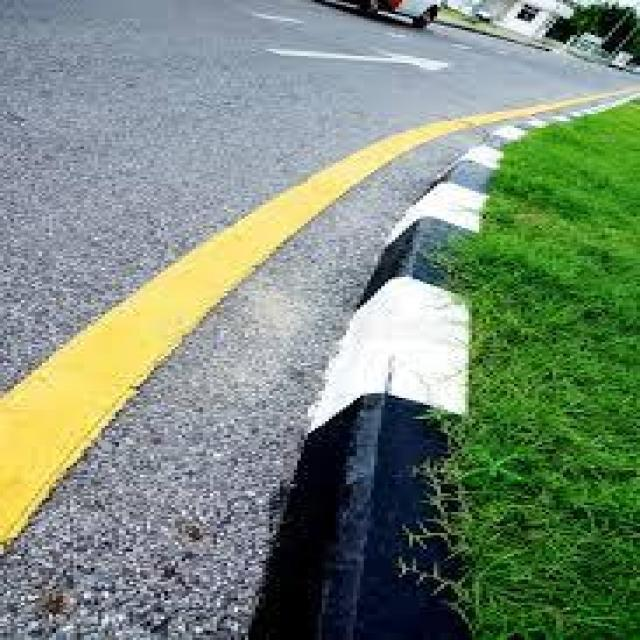bump: (272, 142, 475, 640)
